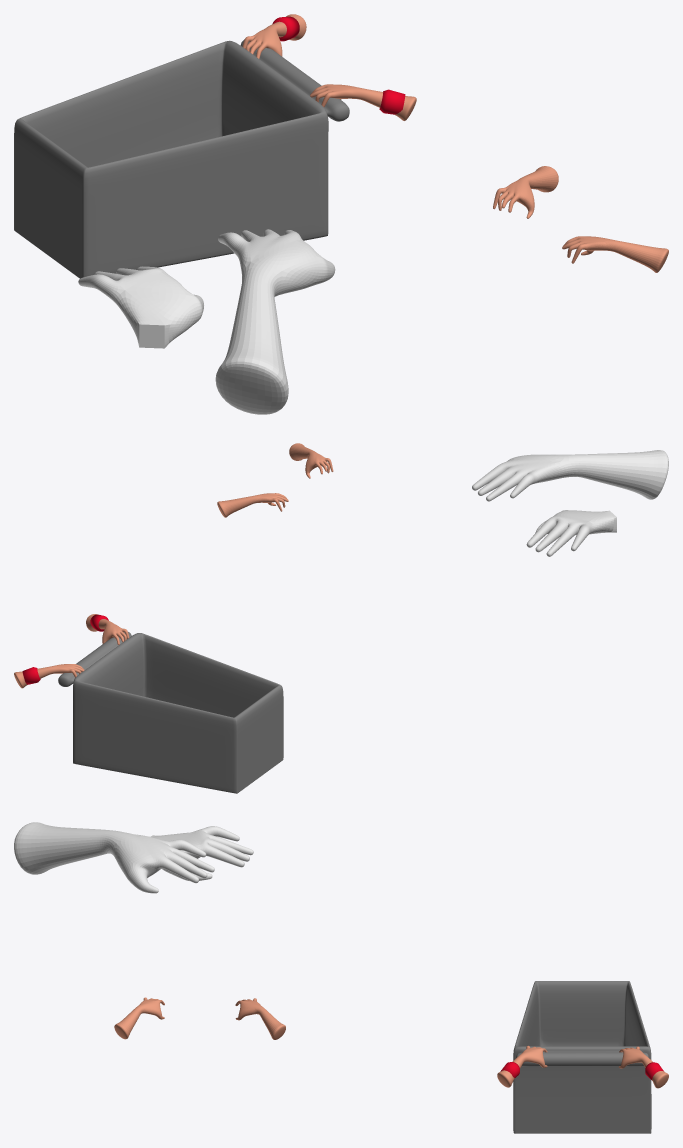
The model's file is Trolley.fbx.
3 renders of one model, top to bottom at view 1: azimuth 30°, elevation 25°; view 2: azimuth 150°, elevation 25°; view 3: azimuth 270°, elevation 25°, orthographic. The views are drawn at different scales.
Parts seen in each view (by area): view 1: Cube, Cube.003, Cube.002, Cube.006, Cube.005, Cube.001, Cube.004; view 2: Cube, Cube.003, Cube.002, Cube.005, Cube.006, Cube.001, Cube.004; view 3: Cube, Cube.003, Cube.002, Cube.006, Cube.005, Cube.001, Cube.004.
Boxes of the visible parts, x1,y1,x2,y2 form: Cube: (14,39,349,278); Cube.003: (215,229,335,414); Cube.002: (78,266,203,348); Cube.006: (562,236,668,272); Cube.005: (493,166,558,218); Cube.001: (310,84,416,120); Cube.004: (242,14,306,58); Cube: (58,632,283,793); Cube.003: (472,450,668,501); Cube.002: (526,510,616,556); Cube.005: (217,493,288,517); Cube.006: (289,443,333,478); Cube.001: (86,614,129,644); Cube.004: (14,664,84,688); Cube: (513,981,651,1133); Cube.003: (14,822,214,893); Cube.002: (150,826,253,880); Cube.006: (114,997,164,1039); Cube.005: (235,998,285,1039); Cube.001: (497,1045,547,1087); Cube.004: (618,1046,668,1088).
Bounding box in the file's own units: 876 × 413 × 1347.
